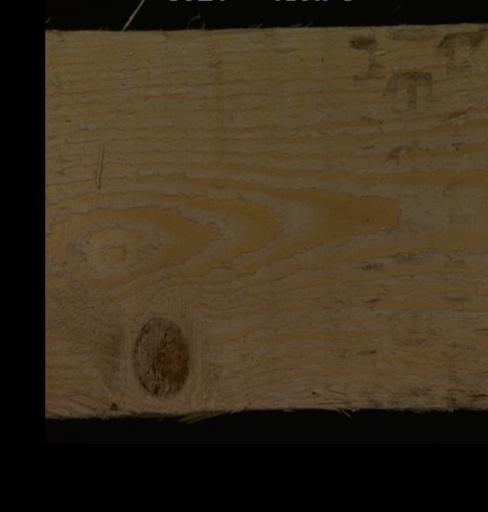sound_knot: (129, 314, 190, 399)
